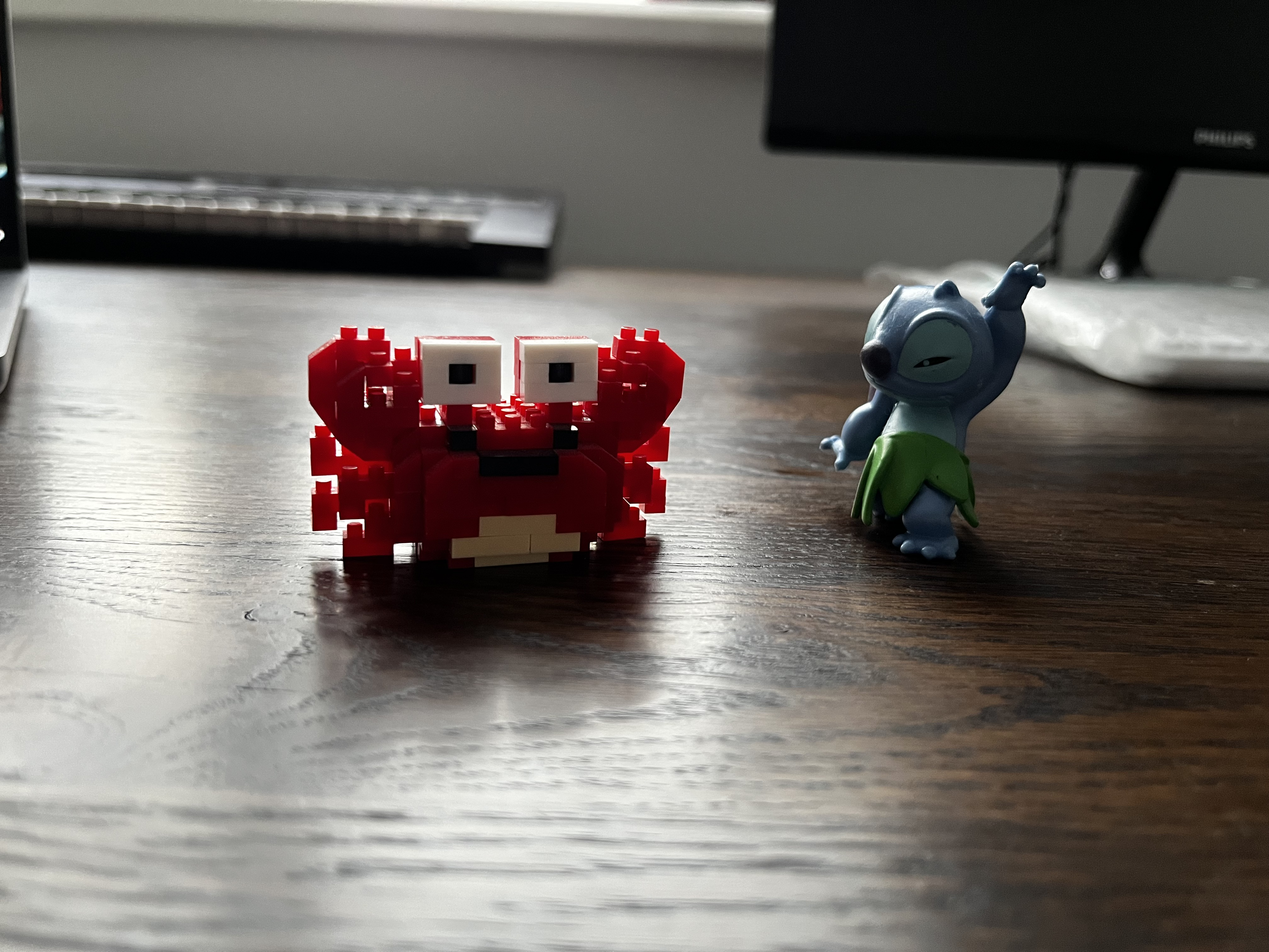crab: (285, 318, 699, 576)
stitch: (818, 261, 1048, 563)
